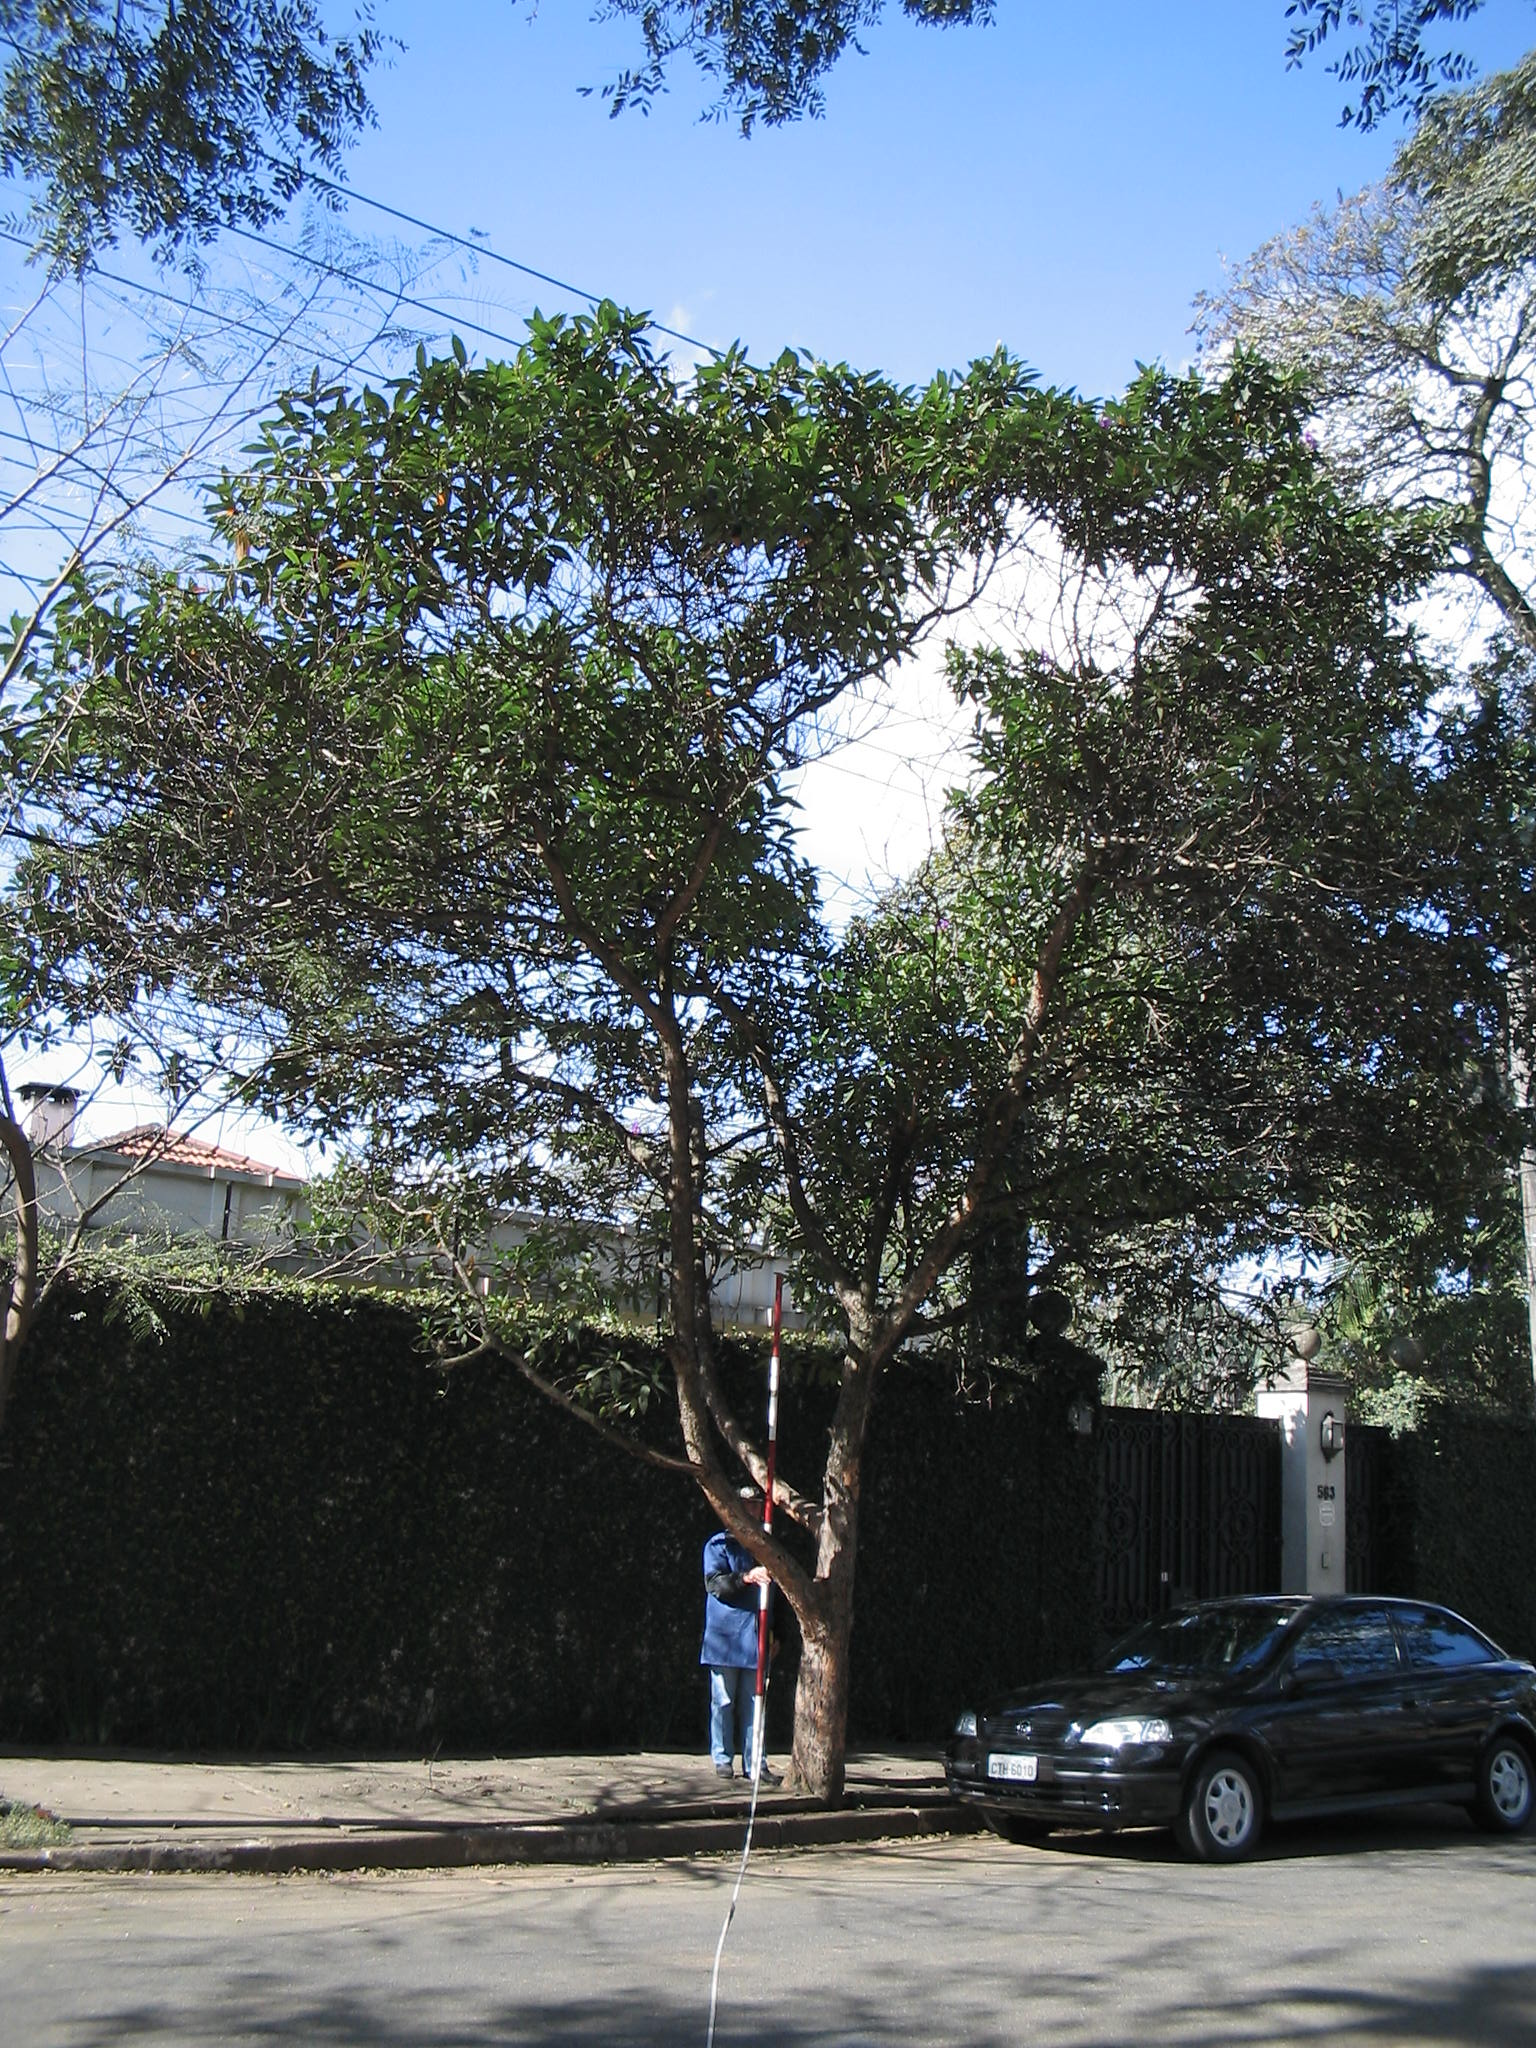crown: (13, 310, 1492, 1327)
stem: (787, 1347, 886, 1793)
stick: (739, 1272, 795, 1787)
tree: (8, 302, 1501, 1801)
